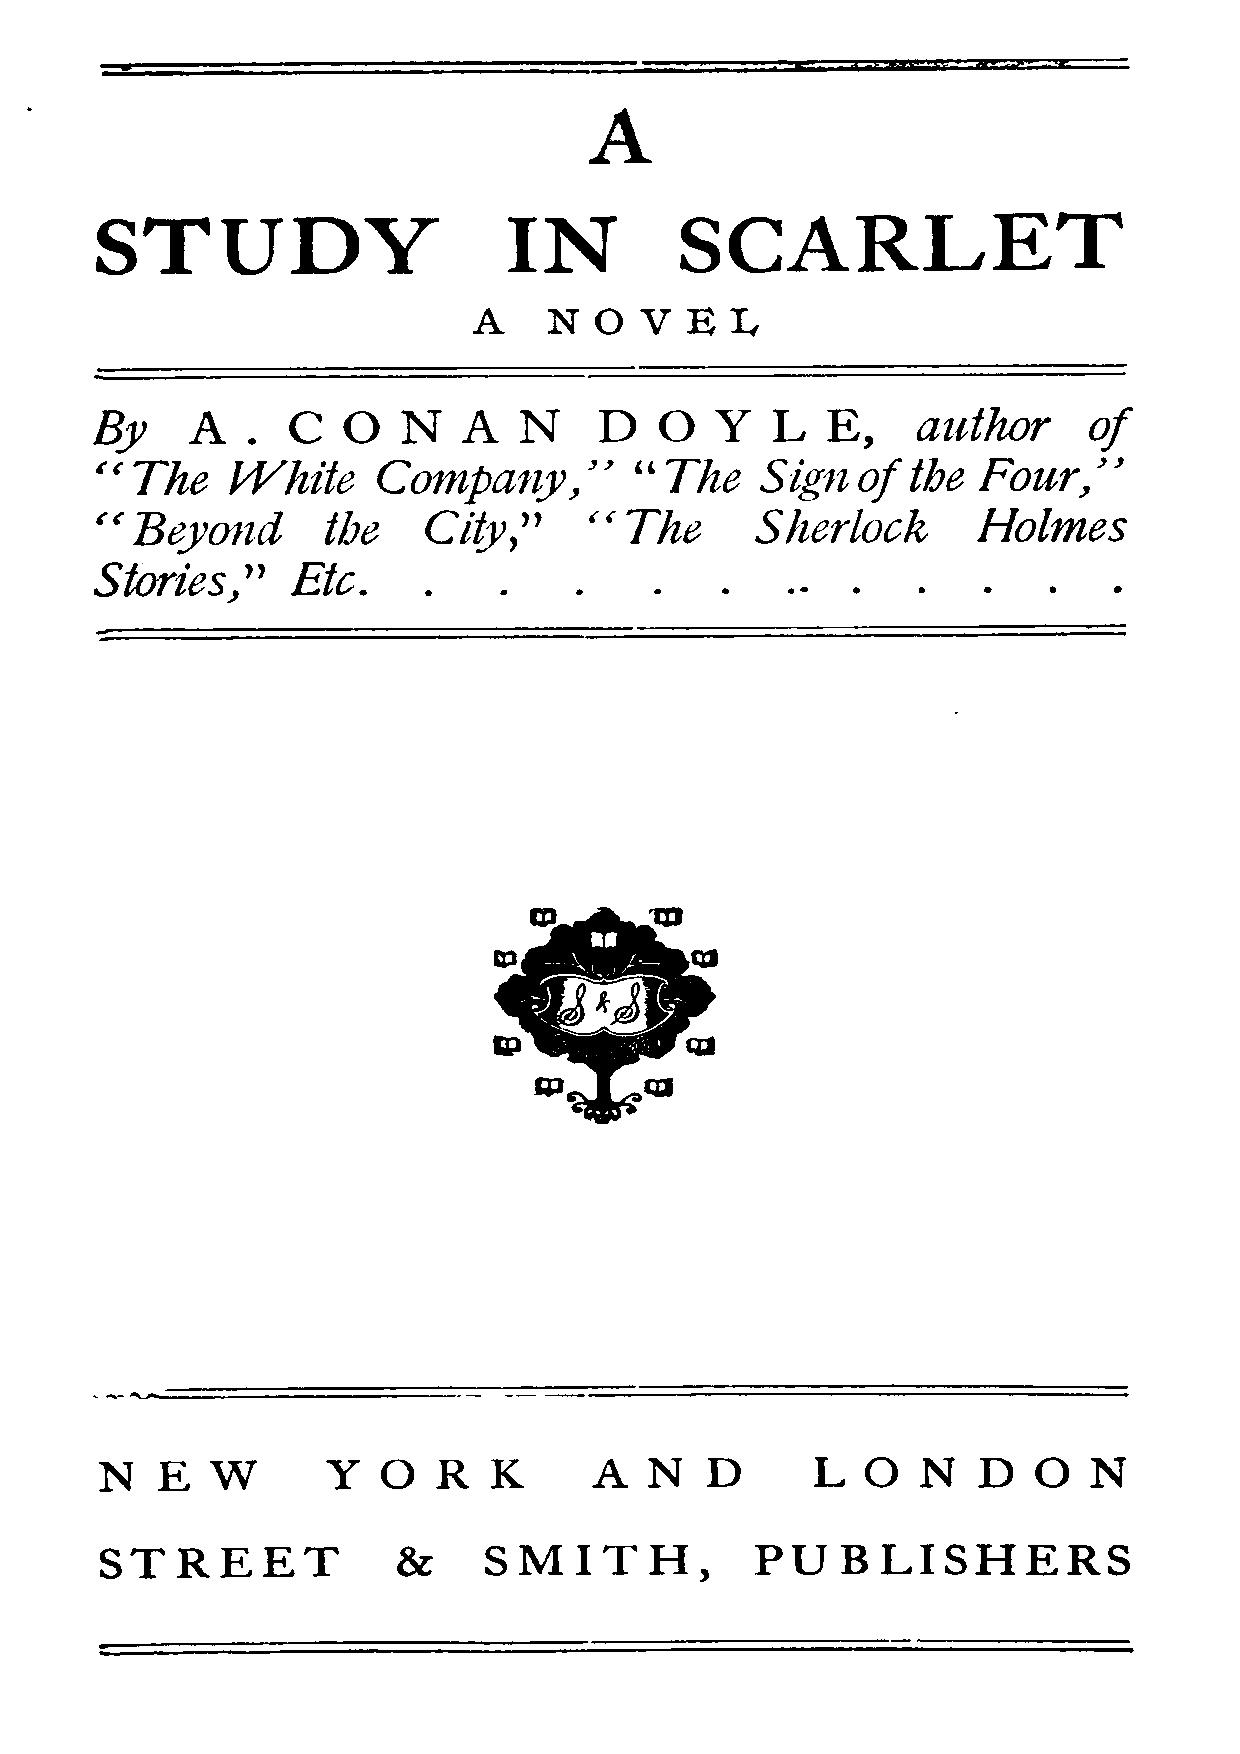author: (90, 403, 872, 454)
title: (89, 107, 1129, 276)
